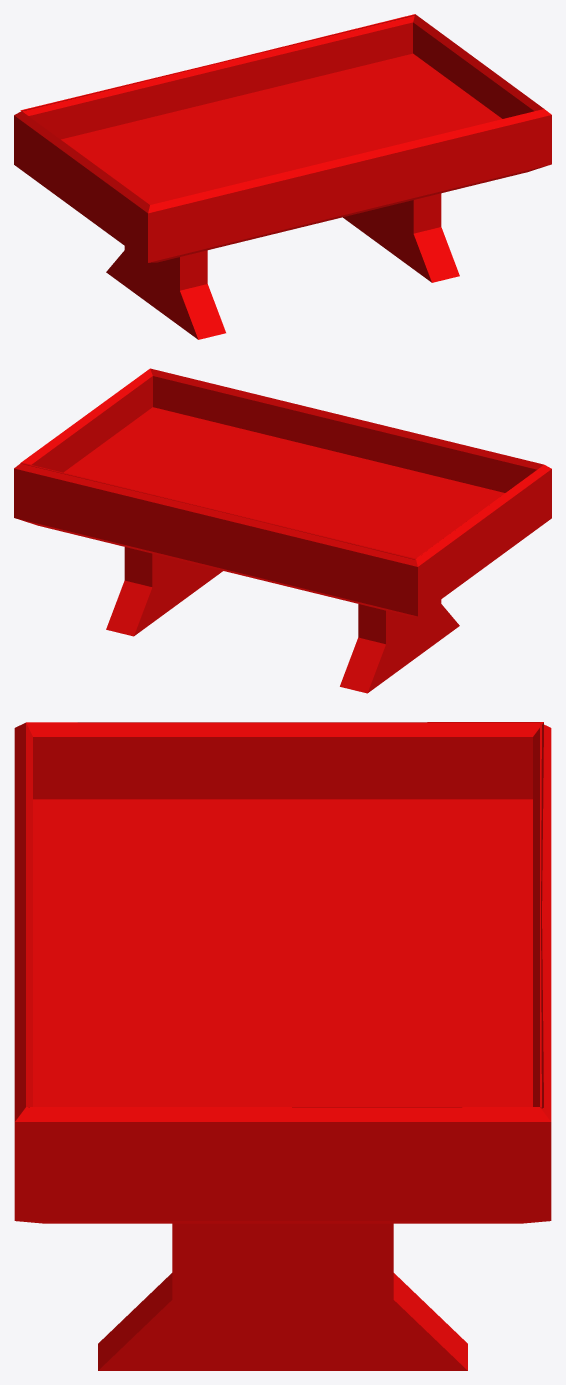
The model's file is table.fbx.
3 renders of one model, top to bottom at view 1: azimuth 30°, elevation 25°; view 2: azimuth 150°, elevation 25°; view 3: azimuth 270°, elevation 25°, orthographic. The views are drawn at different scales.
Parts seen in each view (by area): view 1: pCube1; view 2: pCube1; view 3: pCube1.
Boxes of the visible parts, box(x1,y1,x2,y2) form: pCube1: box(14, 14, 551, 339); pCube1: box(14, 368, 551, 693); pCube1: box(14, 722, 551, 1370).
Size of the model in its own units: 7.58 by 2.95 by 4.36.
